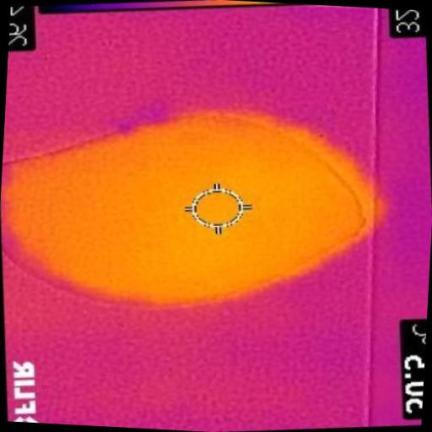mango: (2, 113, 370, 306)
